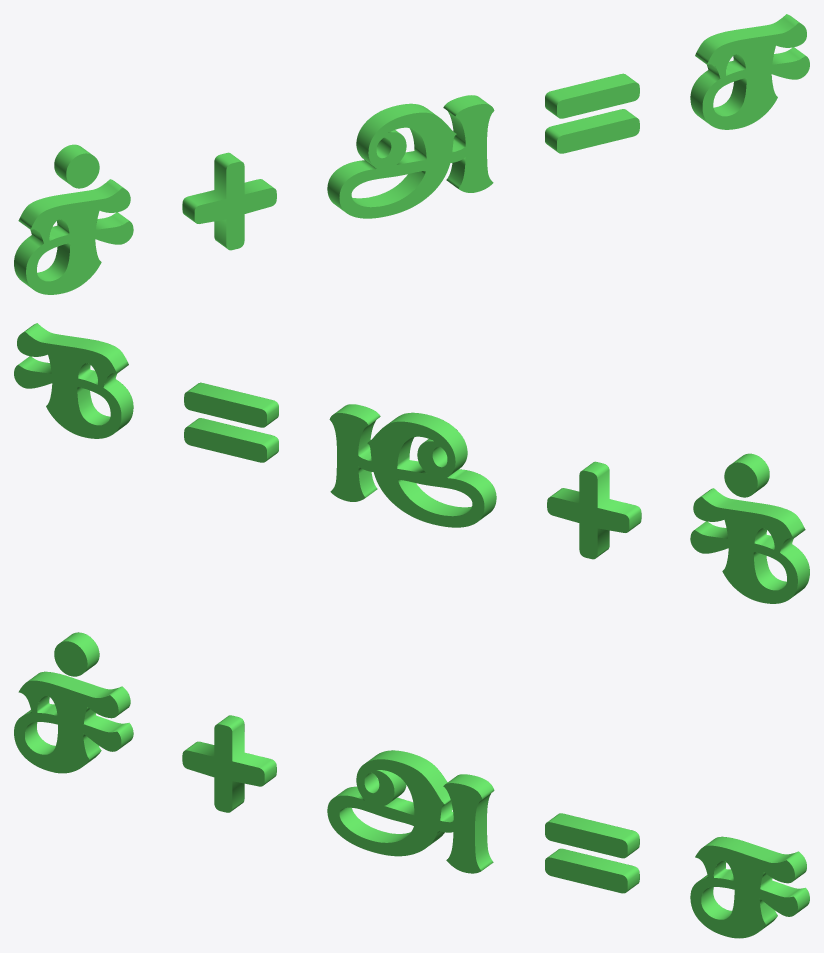
3 renders of one model, top to bottom at view 1: azimuth 30°, elevation 25°; view 2: azimuth 150°, elevation 25°; view 3: azimuth 330°, elevation 25°, orthographic.
Visible parts, largest first — view 1: cha; view 2: cha; view 3: cha.
Part boxes in pixels (x1=…): cha: x1=14, y1=14, x2=809, y2=294; cha: x1=14, y1=323, x2=809, y2=603; cha: x1=14, y1=632, x2=809, y2=938.
Bounding box in the file's own units: 0.1617 × 0.0269 × 0.00431.
